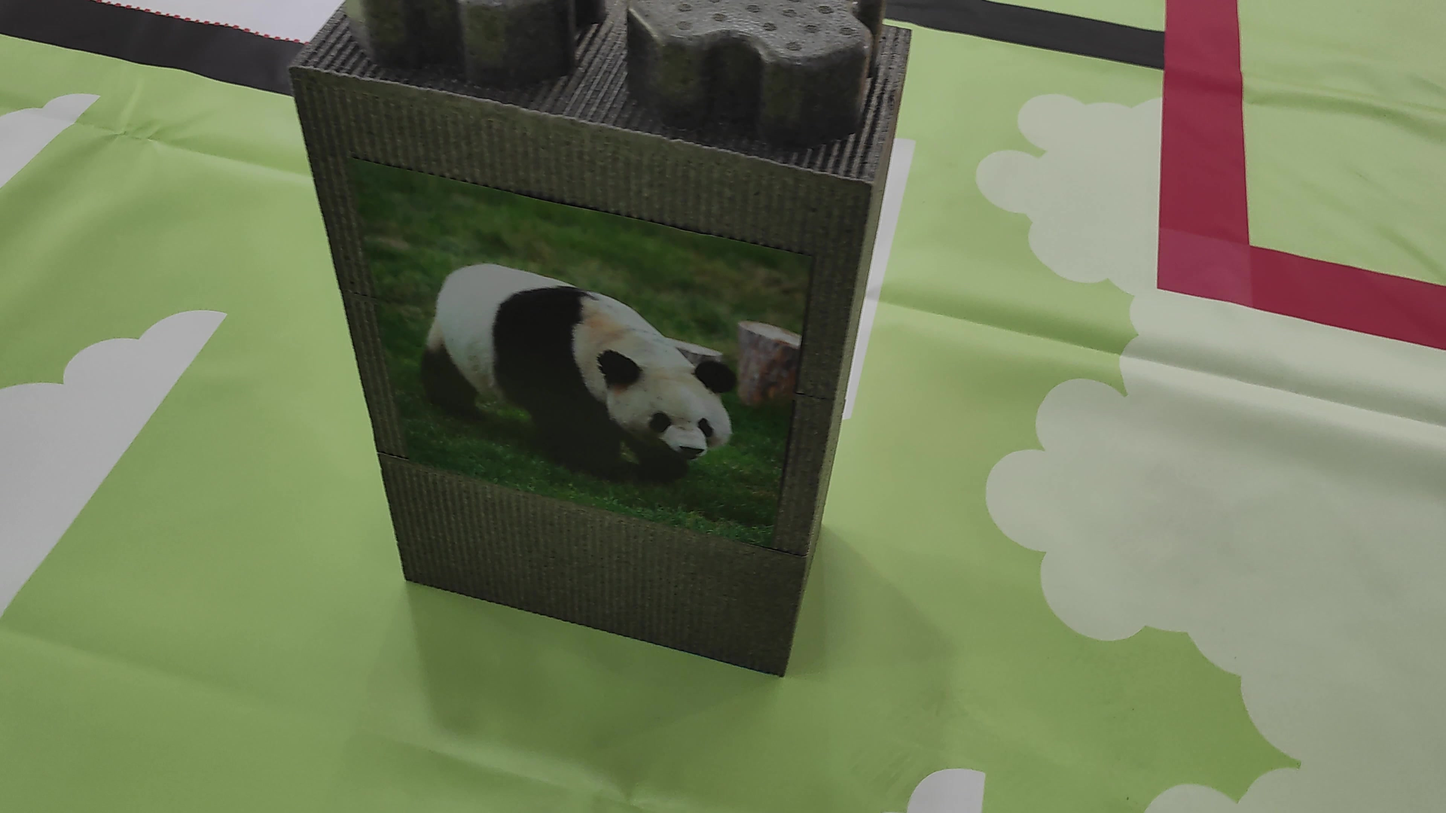panda: (399, 253, 765, 514)
